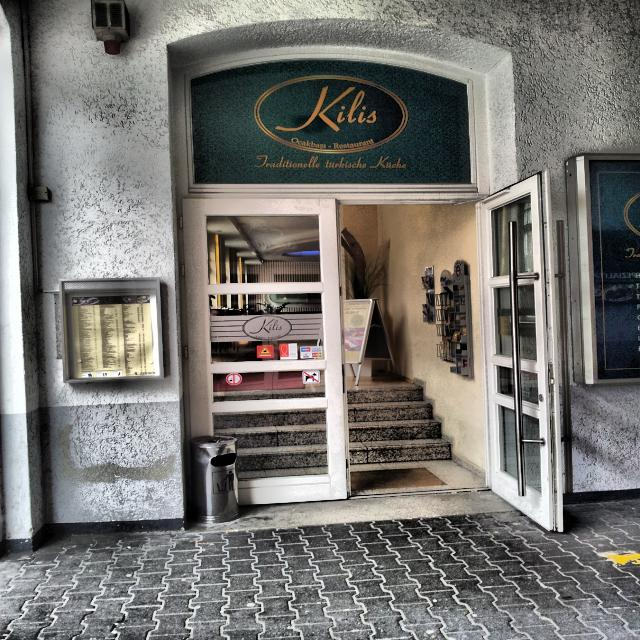escada: (342, 390, 457, 465)
